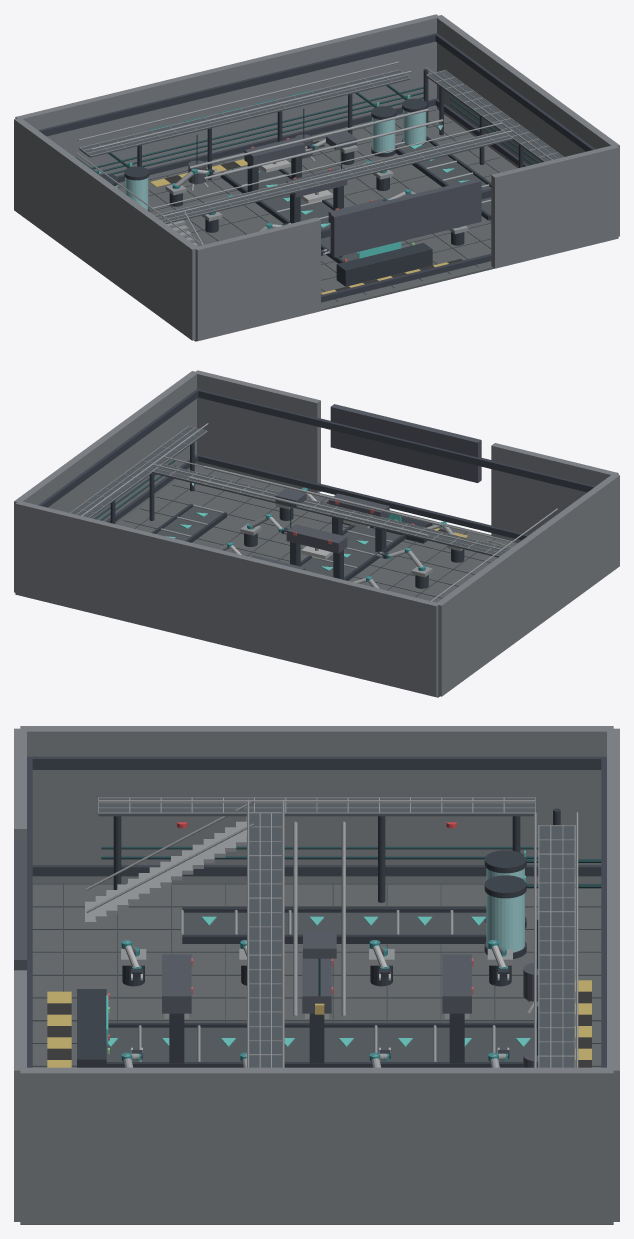
File: industrial_machine_factory_room.glb
The picture shows the model from 3 angles, top to bottom: view 1: azimuth 30°, elevation 25°; view 2: azimuth 150°, elevation 25°; view 3: azimuth 270°, elevation 25°; orthographic projection. The views are drawn at different scales.
Visible parts, largest first — view 1: north_factory_wall, west_factory_wall, factory_floor_slab, south_factory_wall_right, south_factory_wall_left, east_factory_wall, south_factory_door_header, central_cross_bridge_mesh_base, north_overhead_gantry_catwalk_mesh_base, north_upper_machine_trim, south_control_console_base, east_service_catwalk_mesh_base (+27 smaller); view 2: north_factory_wall, west_factory_wall, factory_floor_slab, south_factory_wall_right, east_factory_wall, south_factory_wall_left, south_factory_door_header, south_upper_machine_trim, central_cross_bridge_mesh_base, south_lower_machine_trim, east_service_catwalk_mesh_base, central_assembly_conveyor_belt_base (+10 smaller); view 3: east_factory_wall, west_factory_wall, factory_floor_slab, central_assembly_conveyor_belt_base, north_overhead_gantry_catwalk_mesh_base, west_upper_machine_trim, central_cross_bridge_mesh_base, west_service_catwalk_mesh_base, north_factory_wall, left_scrap_return_conveyor_belt_base, west_lower_machine_trim, south_control_console_base (+37 smaller).
Boxes of the visible parts, left/top/right/bottom form: north_factory_wall: left=15, top=14, right=439, bottom=186; west_factory_wall: left=14, top=118, right=198, bottom=340; factory_floor_slab: left=117, top=109, right=517, bottom=341; south_factory_wall_right: left=491, top=145, right=618, bottom=268; south_factory_wall_left: left=195, top=217, right=320, bottom=341; east_factory_wall: left=436, top=15, right=619, bottom=236; south_factory_door_header: left=330, top=178, right=481, bottom=257; central_cross_bridge_mesh_base: left=155, top=131, right=512, bottom=223; north_overhead_gantry_catwalk_mesh_base: left=79, top=70, right=410, bottom=157; north_upper_machine_trim: left=38, top=33, right=438, bottom=136; south_control_console_base: left=336, top=243, right=432, bottom=286; east_service_catwalk_mesh_base: left=426, top=71, right=562, bottom=161; north_factory_wall: left=15, top=501, right=439, bottom=697; west_factory_wall: left=437, top=474, right=619, bottom=696; factory_floor_slab: left=116, top=465, right=517, bottom=697; south_factory_wall_right: left=194, top=370, right=320, bottom=493; east_factory_wall: left=14, top=371, right=198, bottom=592; south_factory_wall_left: left=491, top=443, right=618, bottom=543; south_factory_door_header: left=330, top=404, right=481, bottom=482; south_upper_machine_trim: left=195, top=389, right=595, bottom=492; central_cross_bridge_mesh_base: left=152, top=464, right=509, bottom=557; south_lower_machine_trim: left=196, top=454, right=528, bottom=540; east_service_catwalk_mesh_base: left=71, top=427, right=207, bottom=517; central_assembly_conveyor_belt_base: left=301, top=526, right=401, bottom=577; east_factory_wall: left=20, top=1067, right=613, bottom=1224; west_factory_wall: left=20, top=726, right=613, bottom=882; factory_floor_slab: left=20, top=883, right=613, bottom=1224; central_assembly_conveyor_belt_base: left=106, top=1027, right=536, bottom=1061; north_overhead_gantry_catwalk_mesh_base: left=539, top=826, right=574, bottom=1067; west_upper_machine_trim: left=27, top=756, right=606, bottom=769; central_cross_bridge_mesh_base: left=249, top=814, right=281, bottom=1067; west_service_catwalk_mesh_base: left=98, top=798, right=534, bottom=816; north_factory_wall: left=607, top=728, right=619, bottom=1221; left_scrap_return_conveyor_belt_base: left=183, top=912, right=486, bottom=934; west_lower_machine_trim: left=32, top=865, right=601, bottom=876; south_control_console_base: left=77, top=989, right=106, bottom=1067.
Size of the model in its own units: 30.48 by 6.32 by 22.48.
